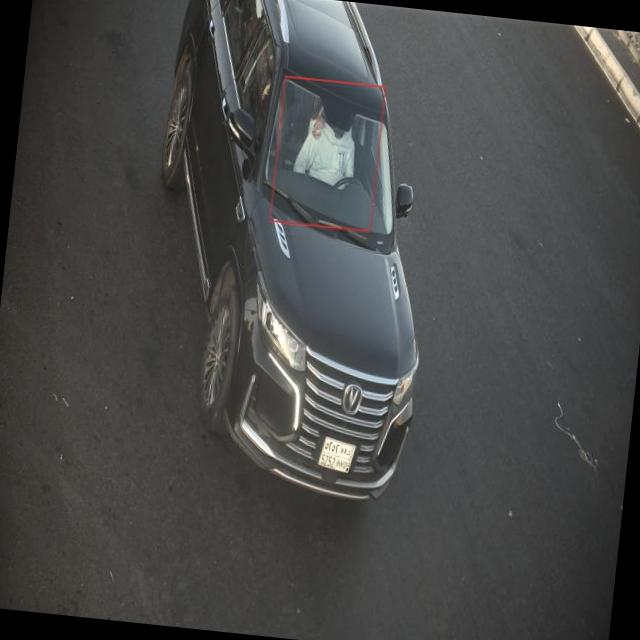person_without_seatbelt: (298, 94, 384, 194)
